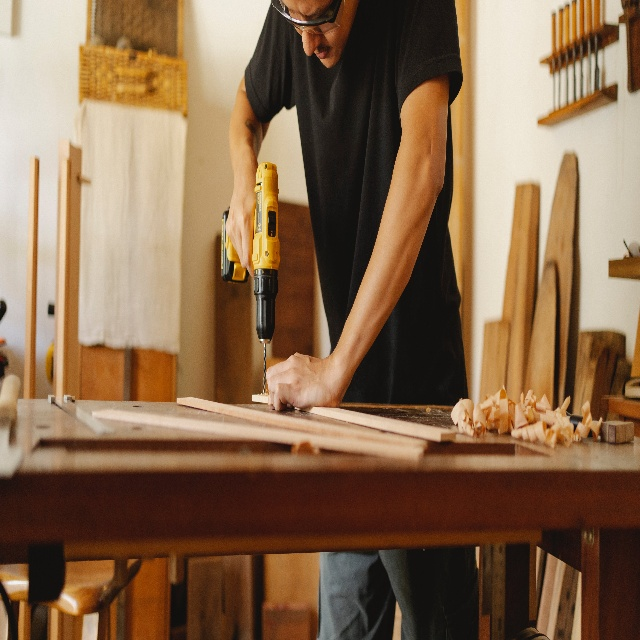Gafas: (271, 0, 345, 36)
Sin_guantes: (266, 351, 346, 412), (226, 160, 259, 277)
